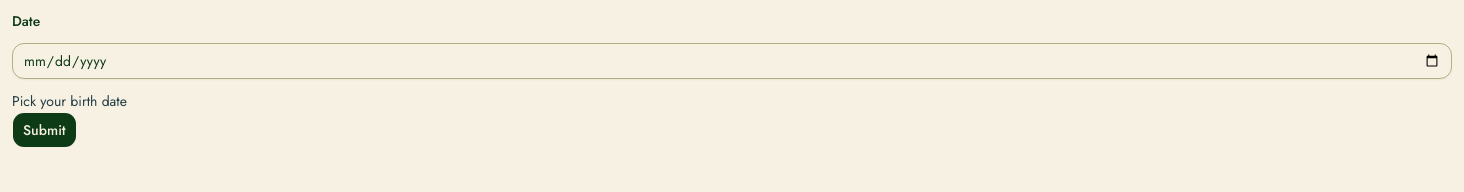
Scenario: DateField › validation-error
Click the button "Submit" at (44, 130), box [12,112,77,148]
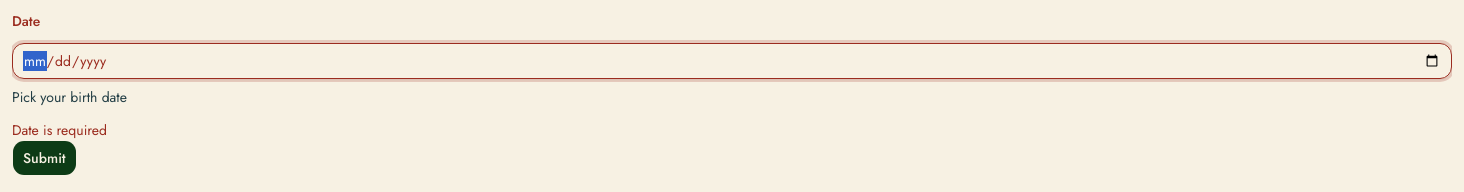
Check: the text "Date is required" is shown, box [12,120,107,140]
